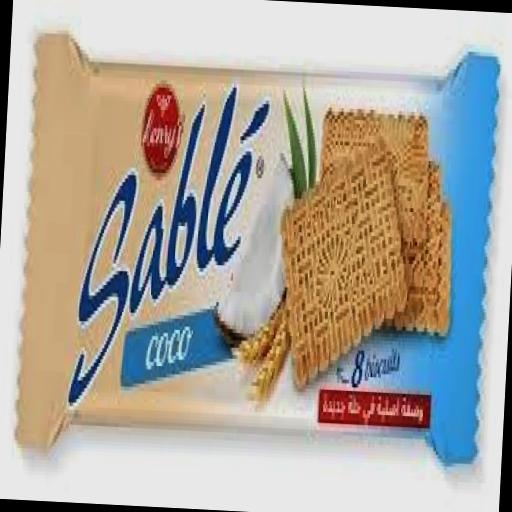sabl: (1, 0, 512, 510)
